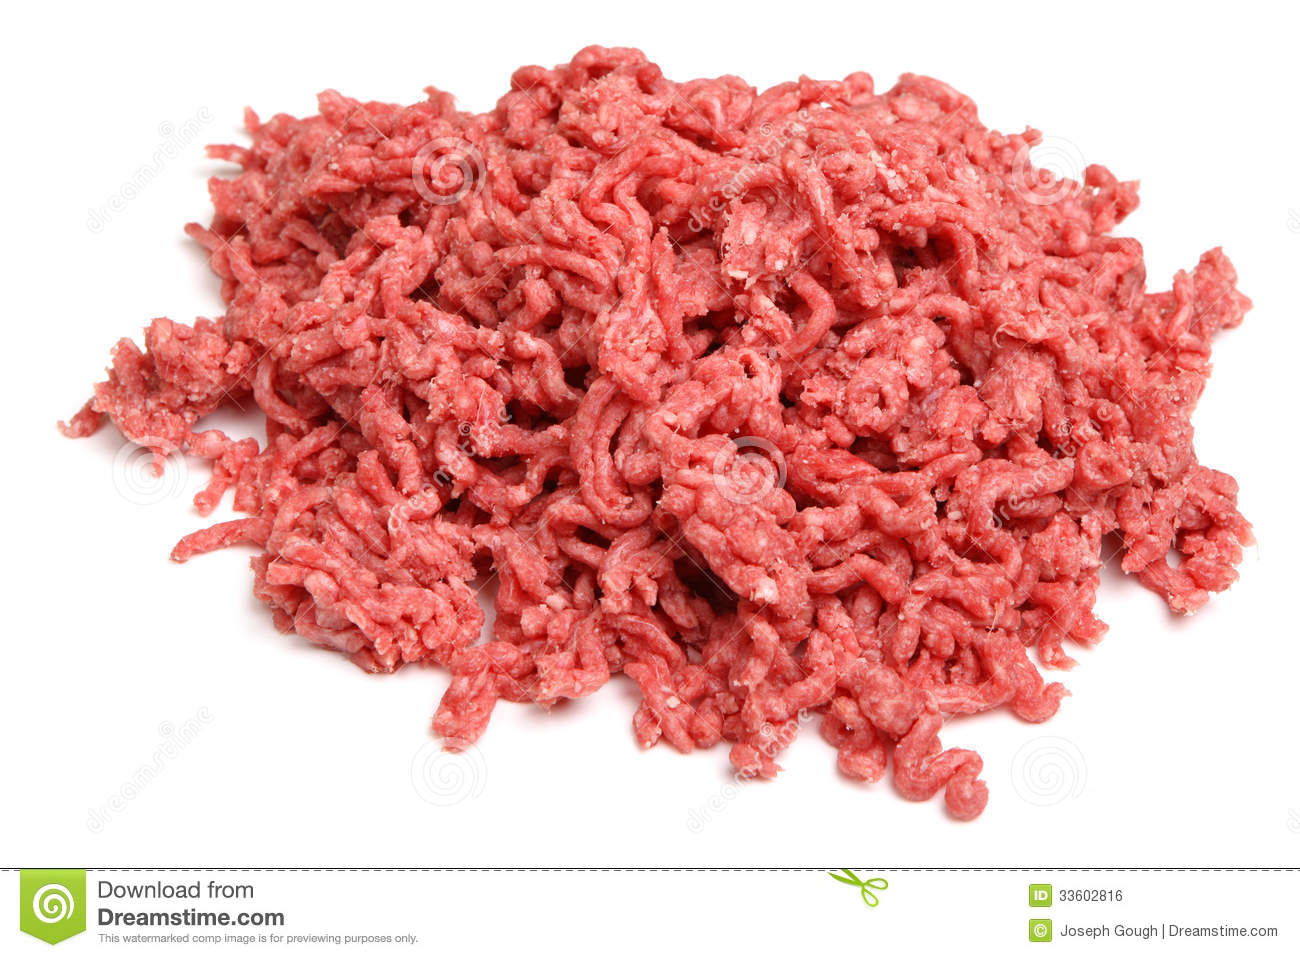ground_beef: (214, 120, 1182, 745)
